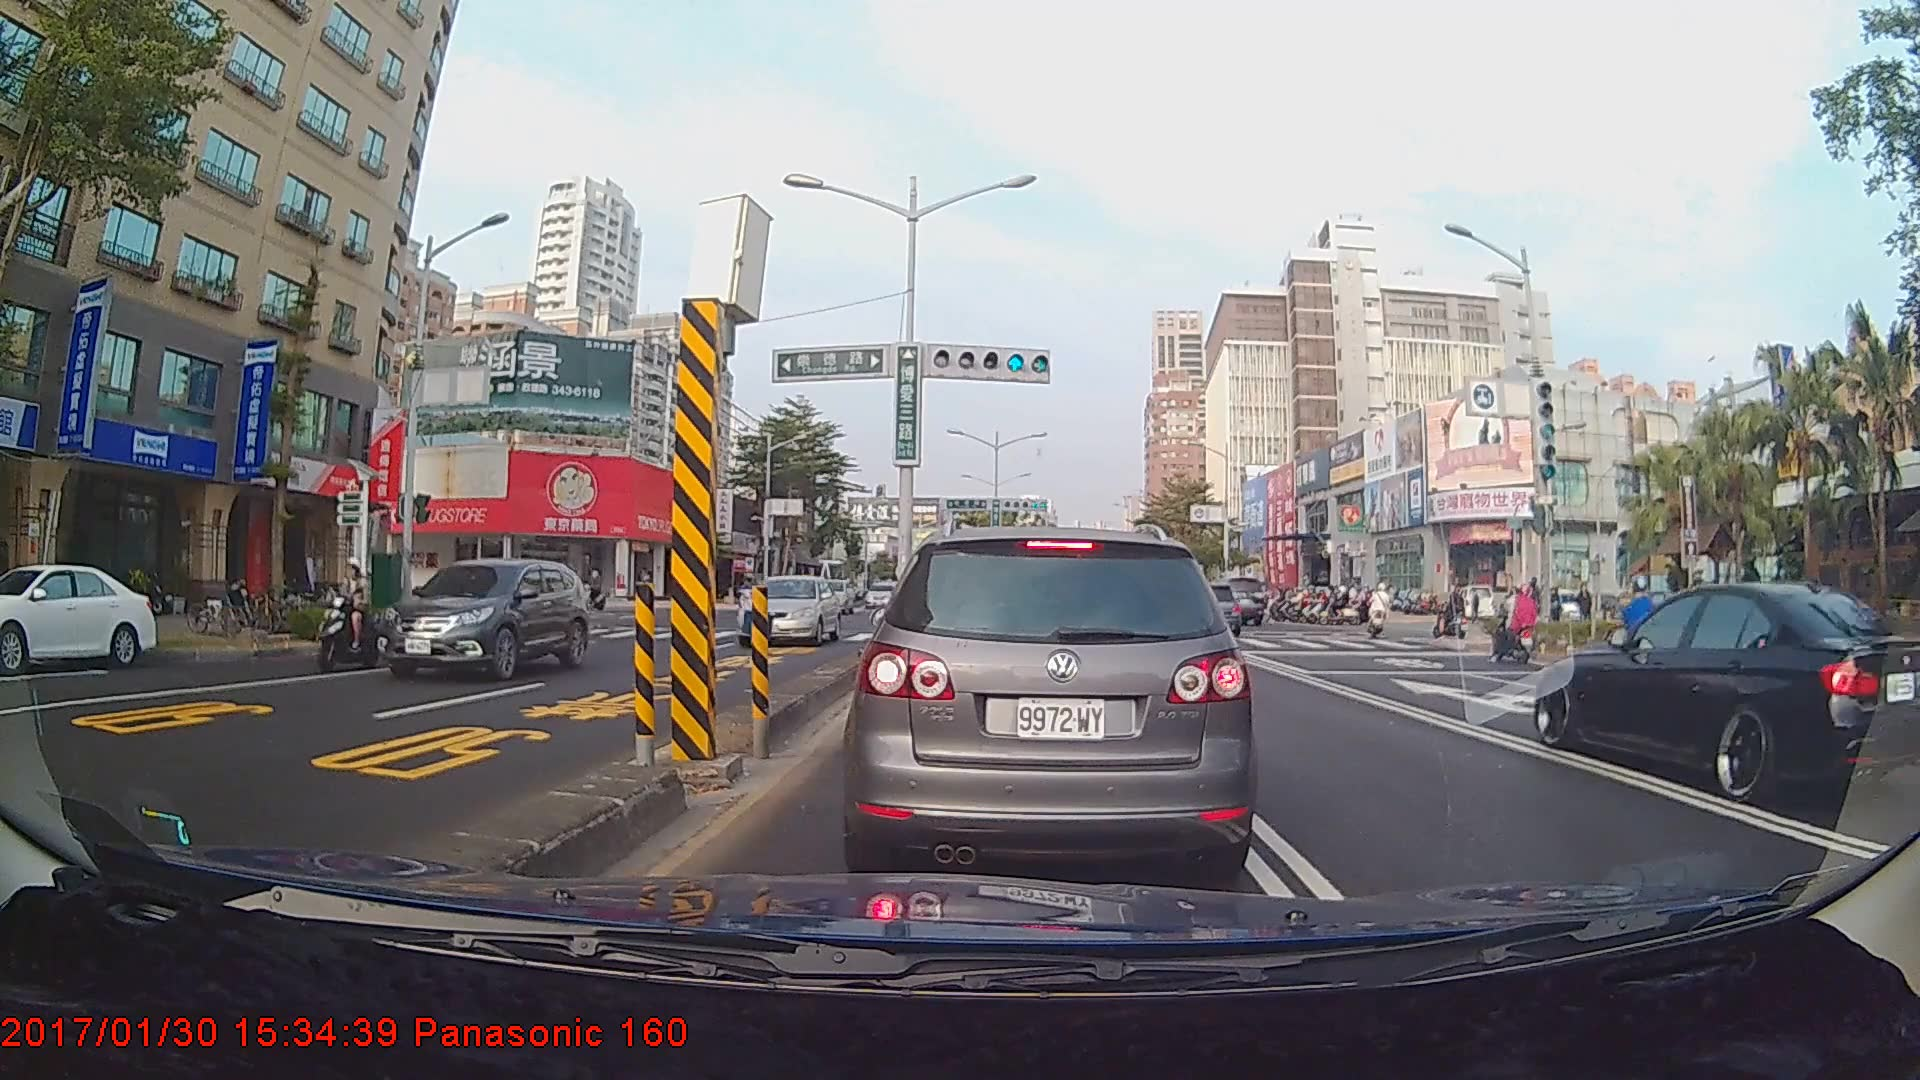rider: (309, 559, 383, 670), (438, 566, 504, 652), (1485, 582, 1548, 668), (1436, 582, 1473, 646), (1363, 582, 1399, 644)
vehicle: (853, 522, 1250, 880), (1534, 580, 1919, 807), (376, 555, 590, 681), (0, 561, 157, 671), (733, 574, 841, 647), (1173, 580, 1242, 635), (1211, 573, 1265, 626)
